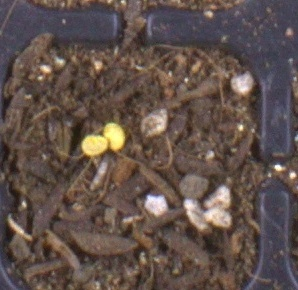chilli seed: (102, 121, 125, 151), (80, 133, 109, 156)
